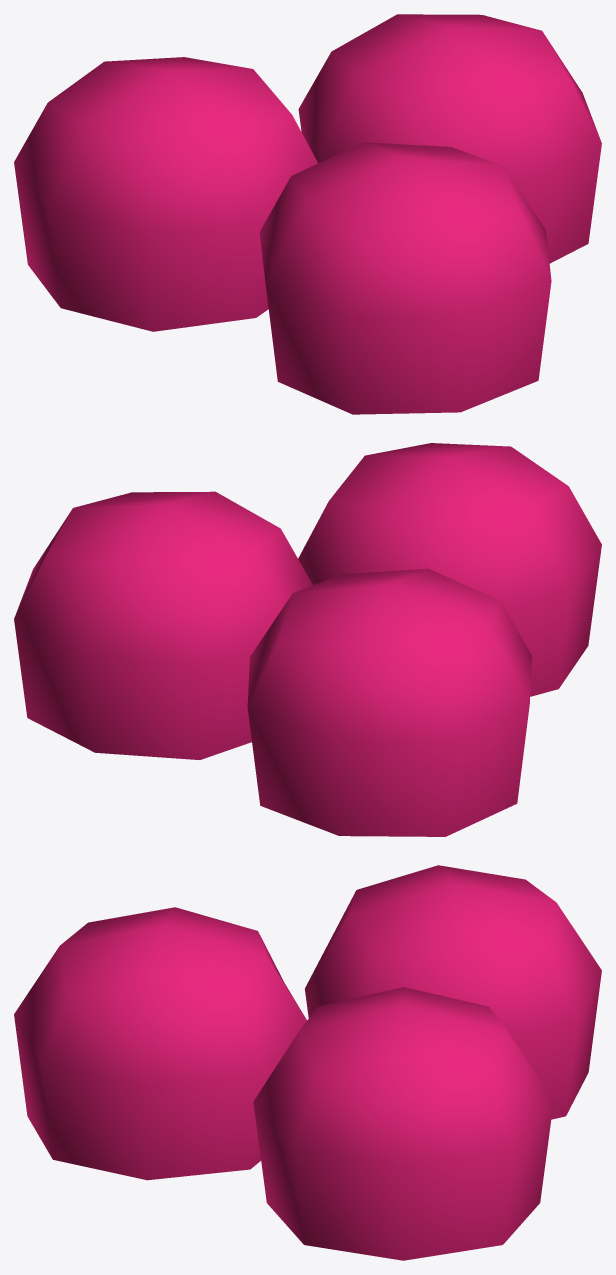
Rendered from CactusFlower_2.fbx.
The picture shows the model from 3 angles, top to bottom: view 1: azimuth 30°, elevation 25°; view 2: azimuth 150°, elevation 25°; view 3: azimuth 270°, elevation 25°; orthographic projection.
Visible parts, largest first — view 1: CactusFlower_2; view 2: CactusFlower_2; view 3: CactusFlower_2.
Boxes of the visible parts, left/top/right/bottom form: CactusFlower_2: left=14, top=14, right=601, bottom=414; CactusFlower_2: left=14, top=443, right=601, bottom=836; CactusFlower_2: left=14, top=865, right=601, bottom=1260.
Bounding box in the file's own units: 23.73 × 8.75 × 23.73.
